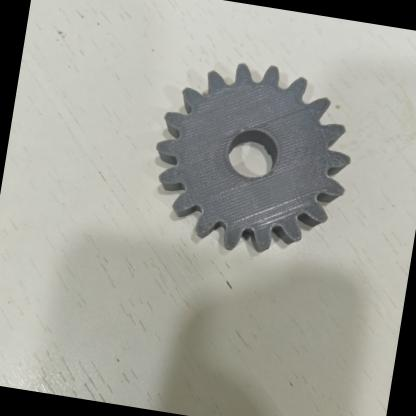gear: (123, 40, 371, 279)
